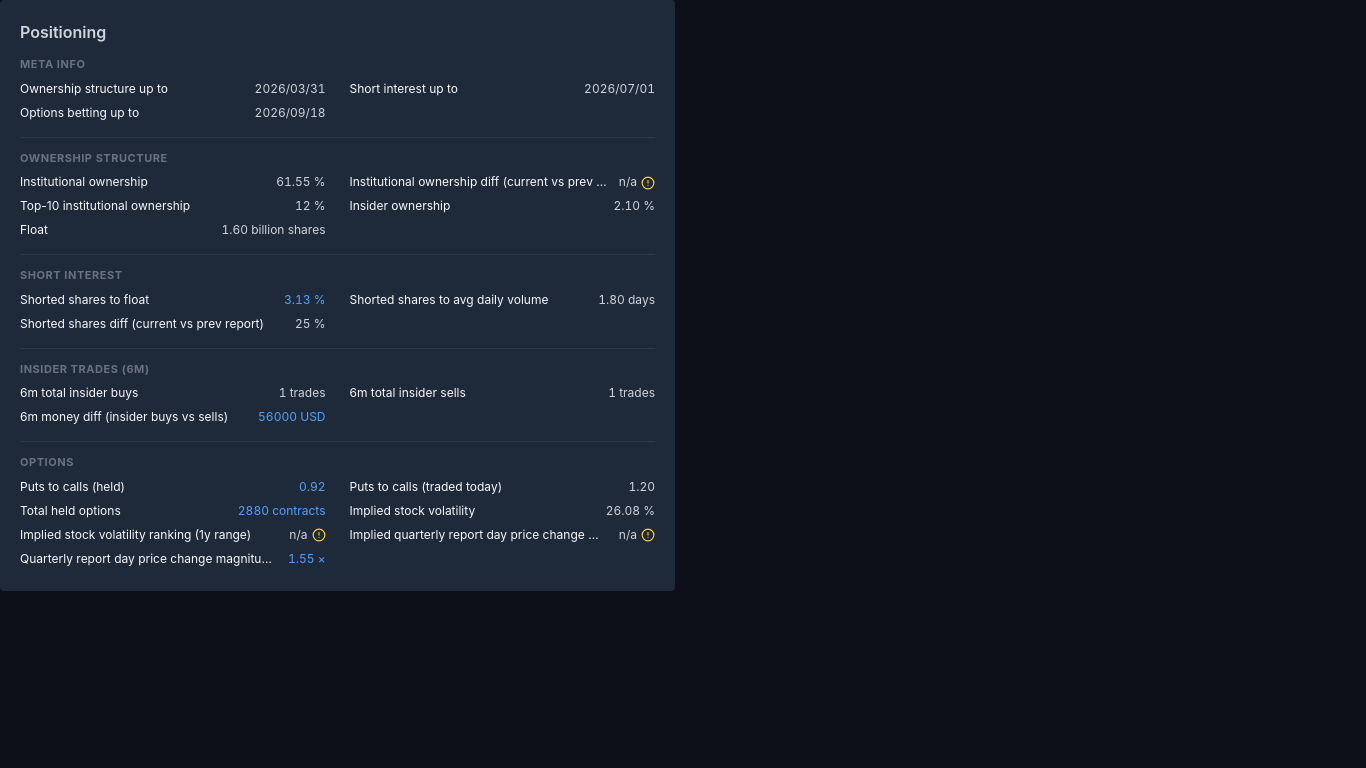
Scenario: AltDimensions — positioning v2 › shows the real countdown in the far-report note, with its receipt (new runs)
This screenshot has width=1366, height=768.
Click the button with test id "alt-field-notes-implied_report_move_pct" at (648, 535), box [641, 528, 655, 542]
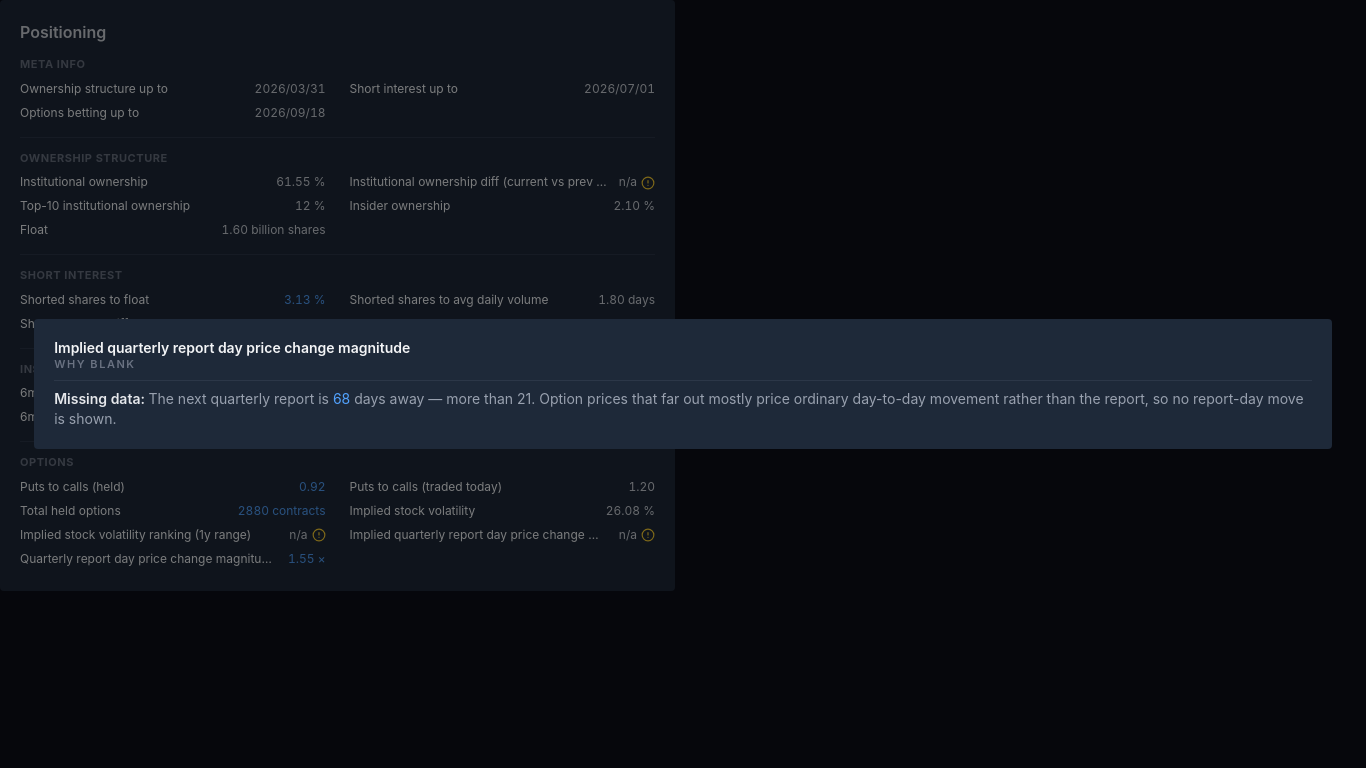
Now the list with test id "alt-field-notes-modal" shows "68 days away", box [54, 389, 1312, 429]
Now the list with test id "alt-field-notes-modal" shows "more than 21", box [54, 390, 1304, 427]
Click the button with test id "alt-note-days-receipt" at (342, 399), box [333, 389, 350, 409]
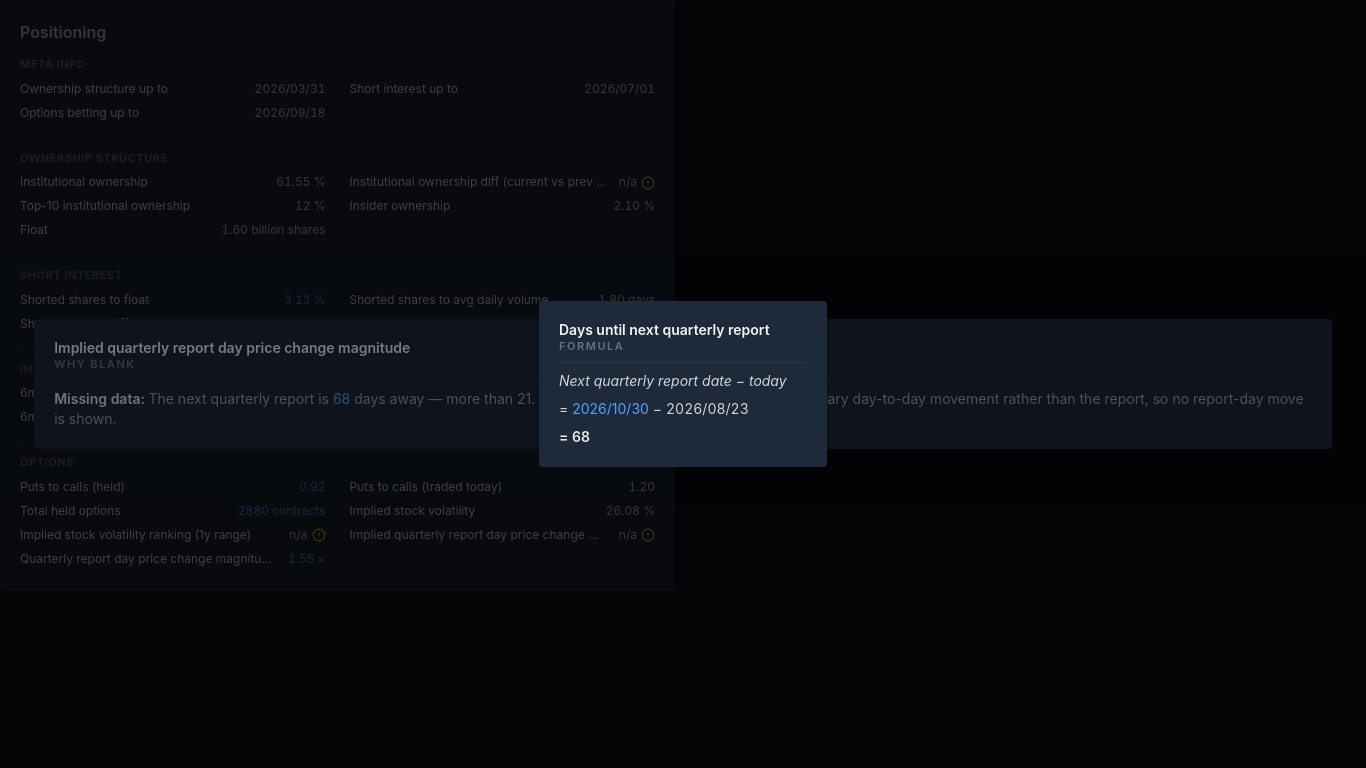
Now the text "Days until next quarterly report" shows "Next quarterly report date", box [559, 372, 732, 389]
Now the text "Days until next quarterly report" shows "today", box [749, 372, 787, 389]
Now the button "2026/10/30" is shown, box [572, 399, 649, 419]
